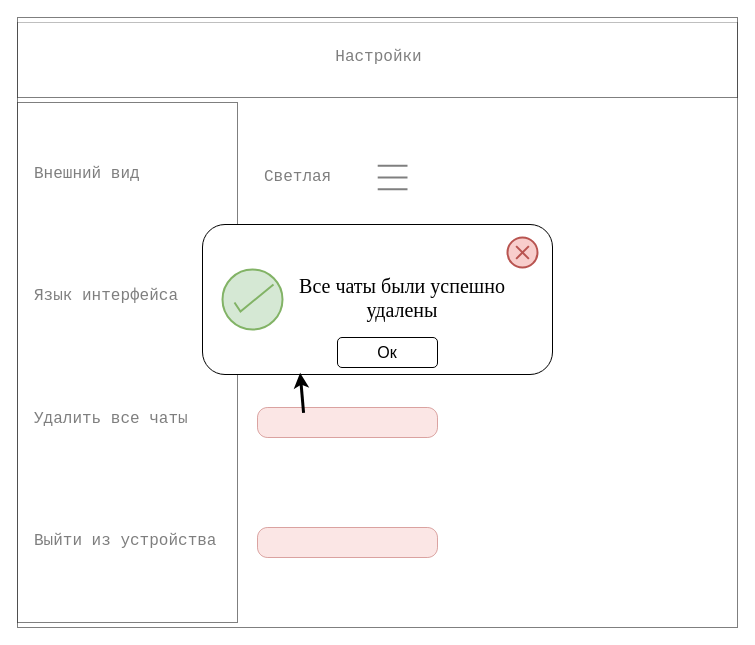
This 755x645 diagram has some shape labels left out. The centre of each missing label's shape, as x and y in pixels:
Выйти: (347,542)
Удалить чаты: (347,422)
